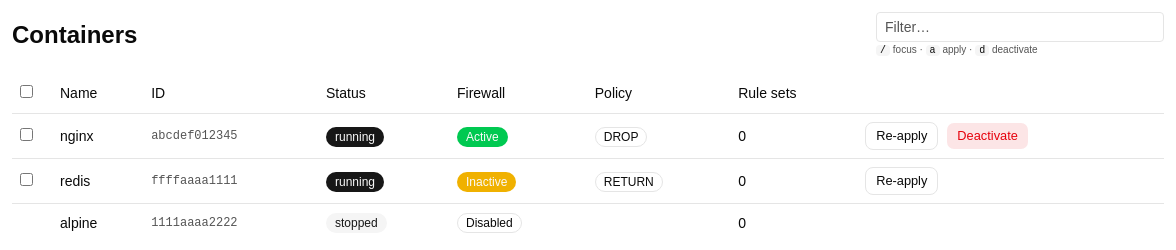
Test: ContainersPage search filter › renders a no-match empty state when filter excludes everything
expect the text "nginx" is shown: met, box [52,114,143,158]
Type "zzz-no-match" into the search field named "Filter containers". click: (1020, 27)
box: [876,12,1164,42]
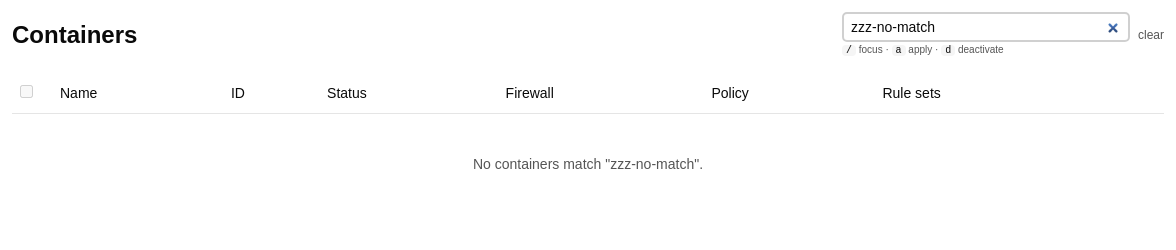
expect the text "No containers match \"zzz-no-match\"." is shown: met, box [473,156,703,172]
